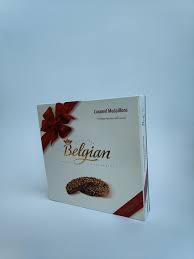Chocolate: (34, 99, 172, 226)
